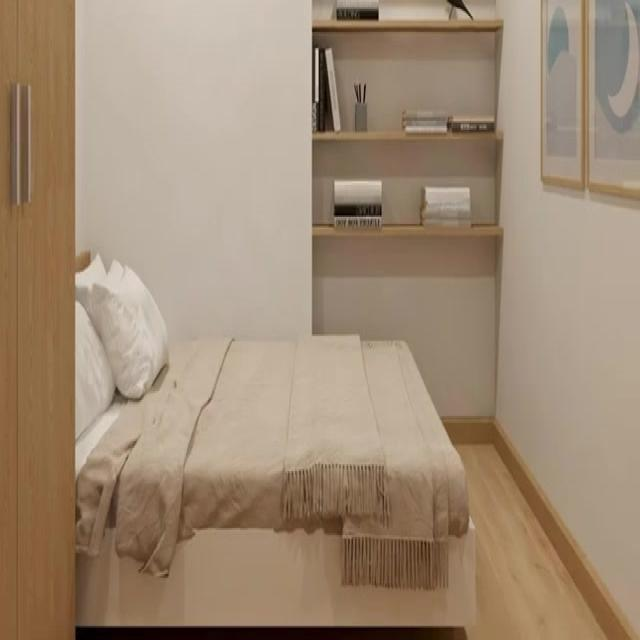obstacle: (74, 247, 475, 629), (0, 0, 77, 638)
